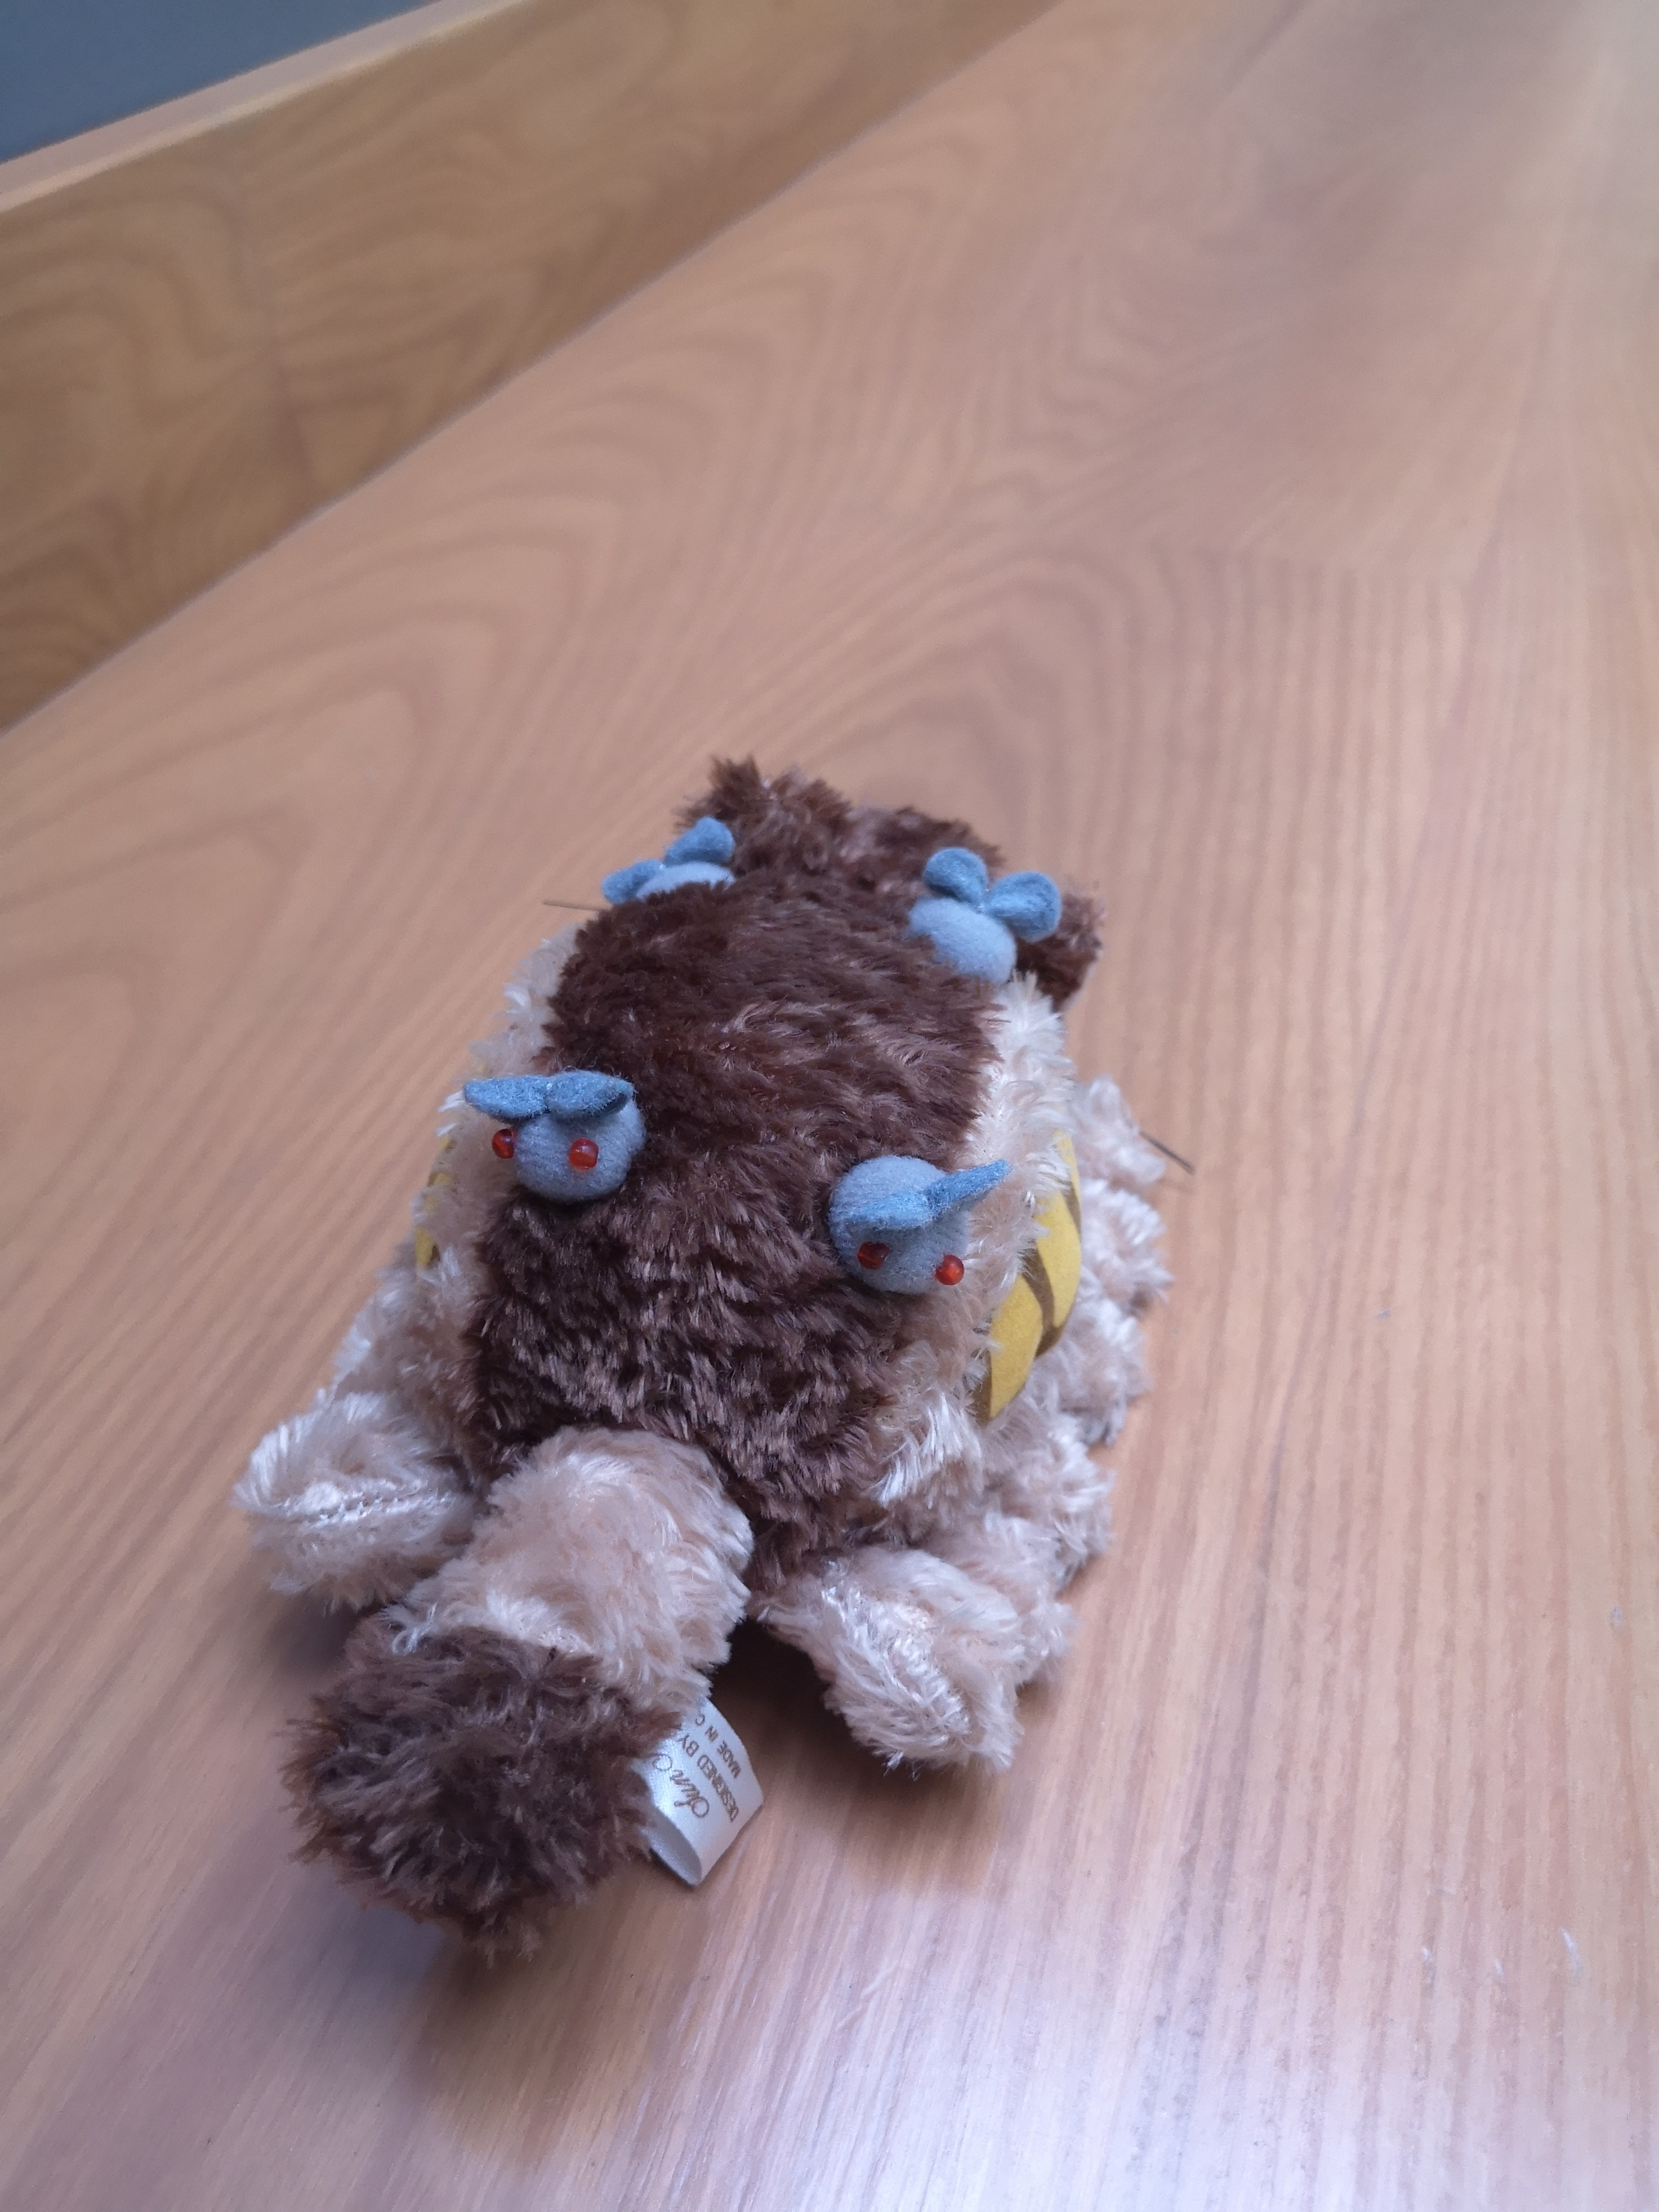nekobus: (218, 726, 1185, 1986)
